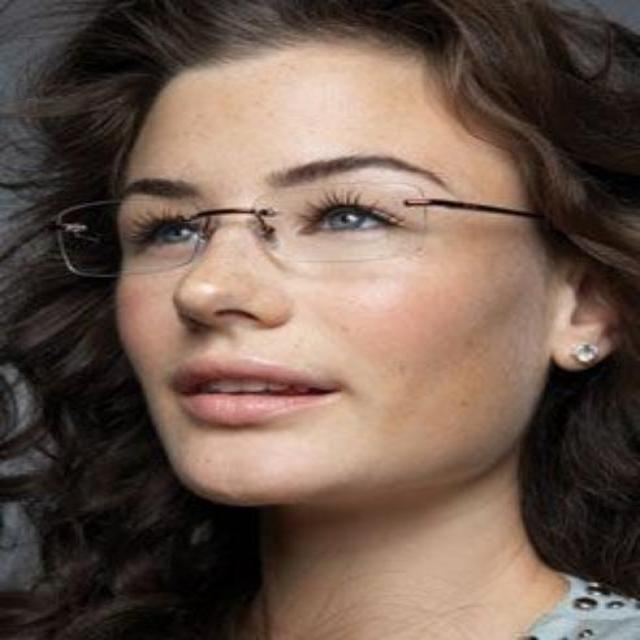glasses: (61, 178, 530, 278)
